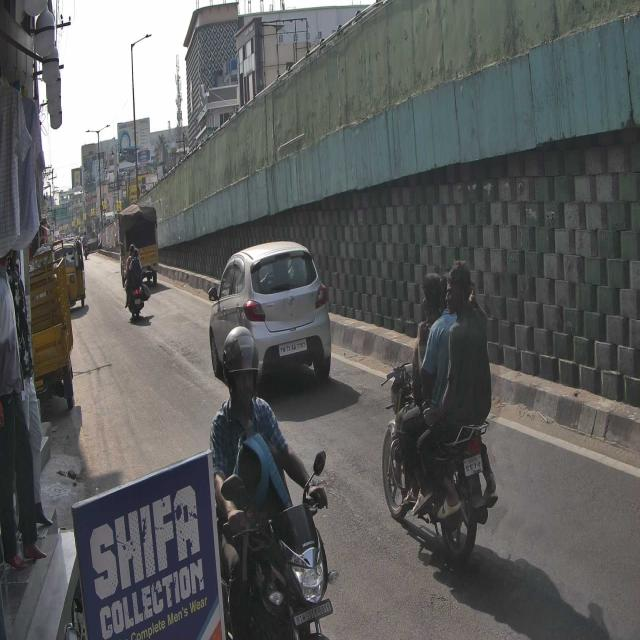single_rider: (207, 321, 339, 640)
triple_rider: (378, 256, 501, 564)
